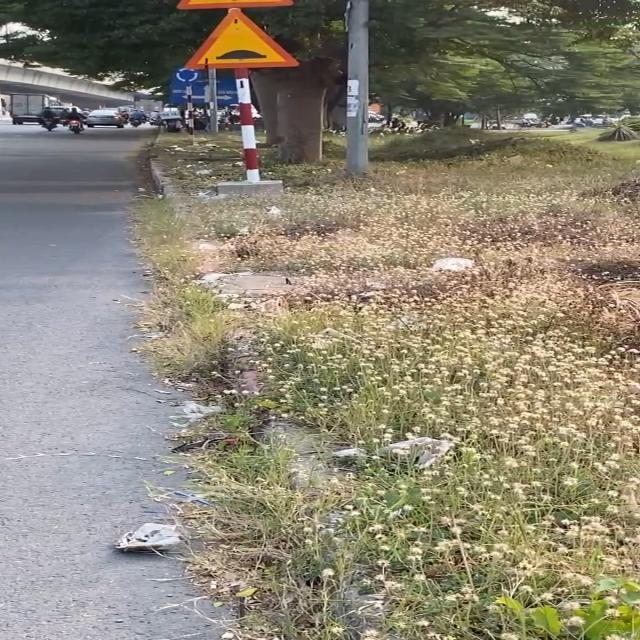221-duong-go-ghe: (184, 10, 300, 70)
303-noi-giao-nhau-chay-theo-vong-xuyen: (172, 66, 200, 84)
